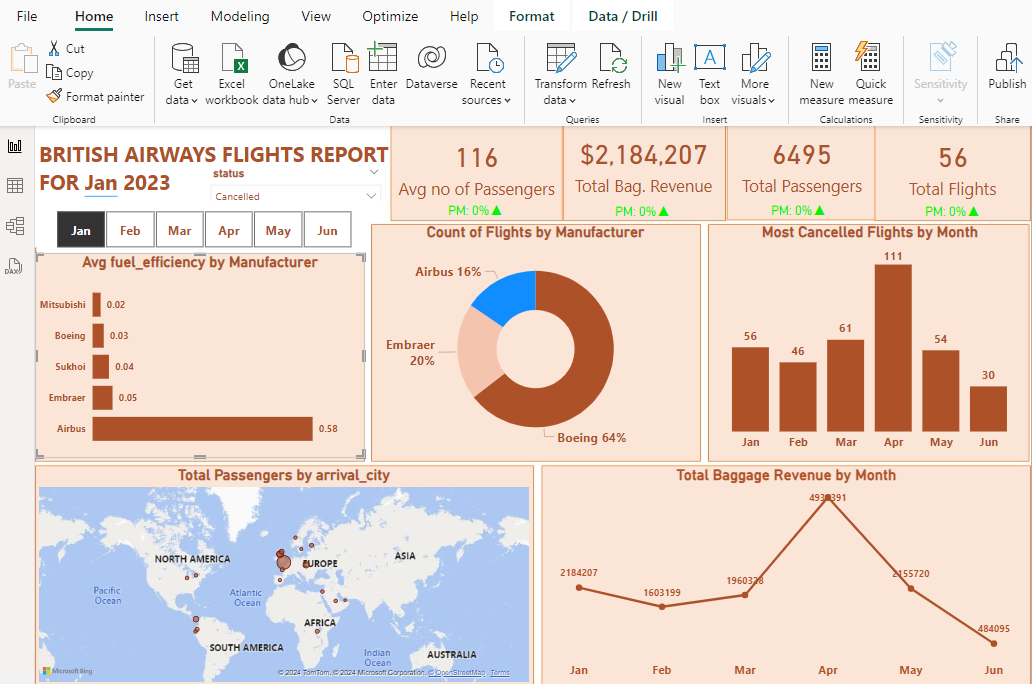

Layout of this report page (visuals, bound fields, positions):
{"tool":"powerbi","page":{"name":"Flights Report","canvas":[1280,720],"ordinal":0},"visuals":[{"type":"card","fields":{"Values":["Dax Measures.Avg no of Passengers"]},"box":[454.9,0,224.9,102.8],"z":0},{"type":"card","fields":{"Values":["Dax Measures.Total no of aircrafts"]},"box":[1078.2,0,201.8,102.8],"z":1000},{"type":"card","fields":{"Values":["Dax Measures.Total Revenue"]},"box":[679.8,0,204.3,95.1],"z":2000},{"type":"donutChart","title":"Count of Flights by Manufacturer","fields":{"Category":["public ba_fuel_efficiency.manufacturer"],"Y":["CountNonNull(public ba_aircrafts.flight_id)"]},"box":[430.5,124.7,425.4,302],"z":3000},{"type":"clusteredBarChart","title":"Avg fuel_efficiency  by Manufacturer","fields":{"Category":["public ba_fuel_efficiency.manufacturer"],"Y":["Dax Measures.Avg fuel_Efficiency"]},"box":[0,163.2,424.1,263.5],"z":4000},{"type":"card","fields":{"Values":["Dax Measures.Total Passengers"]},"box":[893.2,0,185.1,95.1],"z":5000},{"type":"slicer","fields":{"Values":["Calendar.MonthName"]},"box":[2.6,102.8,428,60.4],"z":6000},{"type":"card","fields":{"Values":["Dax Measures.Passengers Growth %"]},"box":[884.2,95.1,194.1,28.3],"z":7000},{"type":"card","fields":{"Values":["Dax Measures.Revenue Growth %"]},"box":[677.3,96.4,206.9,27],"z":8000},{"type":"map","title":"Total Passengers by arrival_city","fields":{"Category":["public ba_flight_routes.arrival_city"],"Size":["Dax Measures.Total Passengers"]},"box":[0,436.9,640,282.7],"z":9000},{"type":"columnChart","title":"Most Cancelled Flights by Month","fields":{"Category":["Calendar.MonthName"],"Y":["CountNonNull(public ba_flights.status)"]},"box":[866.2,124.7,413.8,302],"z":10000},{"type":"lineChart","title":"Total Baggage Revenue by Month","fields":{"Y":["Sum(public ba_flights.revenue_from_baggage)"],"Category":["Calendar.MonthName"]},"box":[651.6,436.9,628.4,282.7],"z":11000},{"type":"textbox","box":[0,12.9,466.5,100.2],"z":12000},{"type":"slicer","fields":{"Values":["public ba_flights.status"]},"box":[215.9,47.6,239,48.8],"z":13000},{"type":"card","fields":{"Values":["Dax Measures.Flights Growth %"]},"box":[1078.2,95.1,201.8,29.6],"z":14000},{"type":"card","fields":{"Values":["Dax Measures.Avg no of Passengers Growth %"]},"box":[454.9,95.1,222.3,28.3],"z":15000}]}

Visuals, with their boxes on the page's 1280x720 design canvas (x1, y1, x2, y2). These are canvas units, not pixel positions in the 1032x684 screenshot, which may show the page scaled, cropped or inside an application window:
card - Dax Measures.Avg no of Passengers: 455:0:680:103
card - Dax Measures.Total no of aircrafts: 1078:0:1280:103
card - Dax Measures.Total Revenue: 680:0:884:95
"Count of Flights by Manufacturer" donutChart: 430:125:856:427
"Avg fuel_efficiency  by Manufacturer" clusteredBarChart: 0:163:424:427
card - Dax Measures.Total Passengers: 893:0:1078:95
slicer - Calendar.MonthName: 3:103:431:163
card - Dax Measures.Passengers Growth %: 884:95:1078:123
card - Dax Measures.Revenue Growth %: 677:96:884:123
"Total Passengers by arrival_city" map: 0:437:640:720
"Most Cancelled Flights by Month" columnChart: 866:125:1280:427
"Total Baggage Revenue by Month" lineChart: 652:437:1280:720
textbox: 0:13:466:113
slicer - public ba_flights.status: 216:48:455:96
card - Dax Measures.Flights Growth %: 1078:95:1280:125
card - Dax Measures.Avg no of Passengers Growth %: 455:95:677:123
